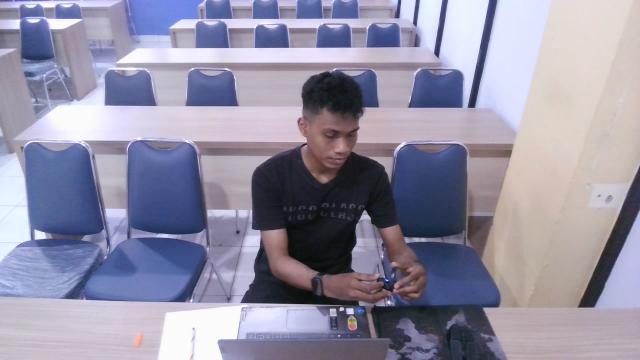Earpiece: (368, 266, 405, 294)
Head_Down_Extreme: (237, 61, 451, 342)
